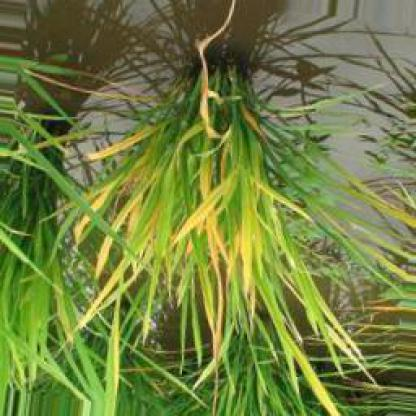Tungro: (162, 160, 250, 264), (276, 313, 336, 416), (190, 3, 234, 141), (74, 154, 141, 235), (84, 201, 141, 290), (81, 256, 136, 334), (86, 128, 154, 170), (255, 182, 317, 224), (239, 240, 255, 308)
